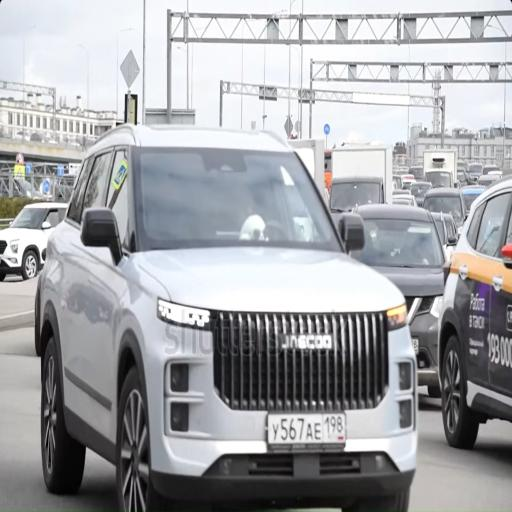License plates: (267, 413, 345, 446), (412, 339, 418, 354)
